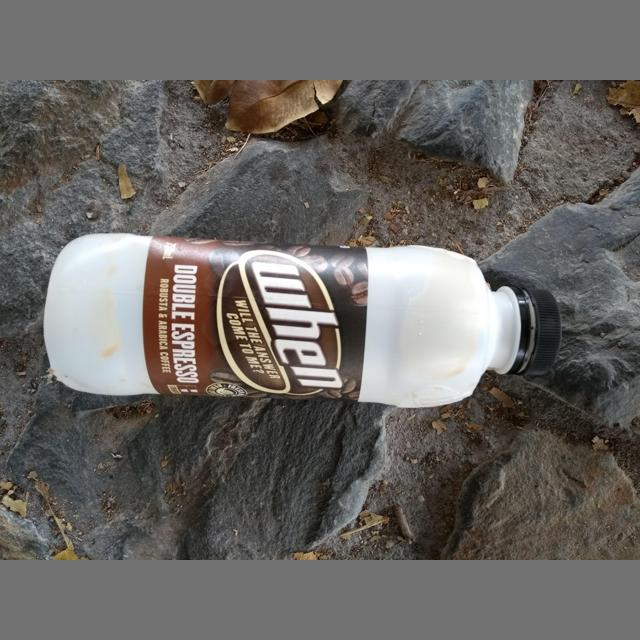litter: (44, 234, 562, 408), (516, 287, 562, 375)
